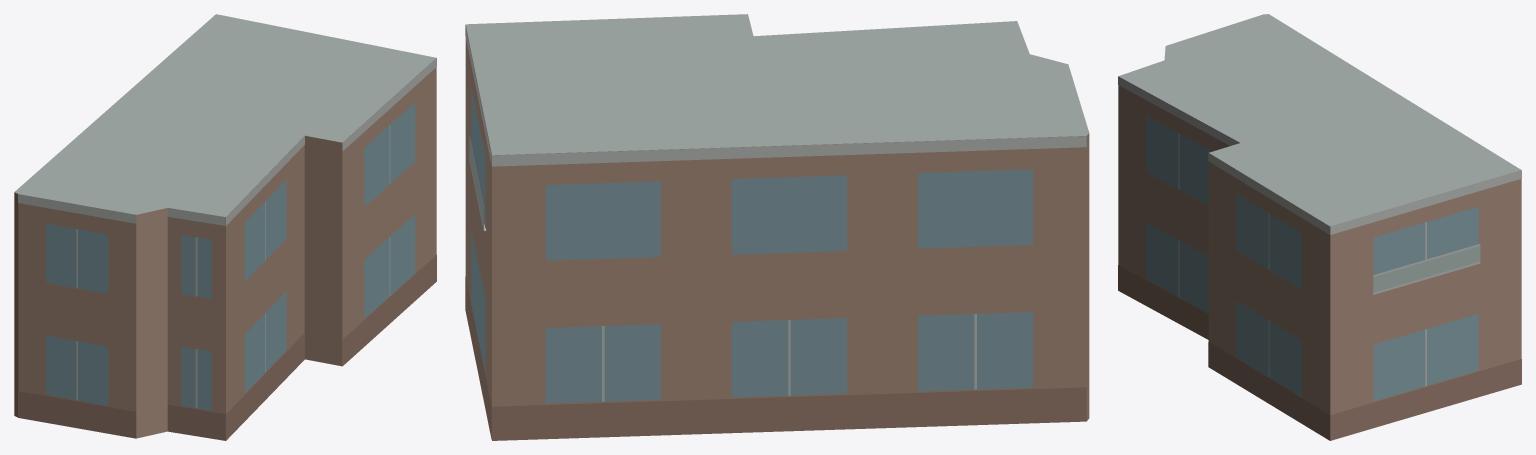
File: survey-upis-32759473.glb
The picture shows the model from 3 angles, left to right: view 1: azimuth 30°, elevation 25°; view 2: azimuth 150°, elevation 25°; view 3: azimuth 270°, elevation 25°; orthographic projection. The views are drawn at different scales.
Parts seen in each view (by area): view 1: survey-upis-32759473.tmp; view 2: survey-upis-32759473.tmp; view 3: survey-upis-32759473.tmp.
Part boxes in pixels (box(x1,y1,x2,y2)): survey-upis-32759473.tmp: box(14, 14, 436, 440); survey-upis-32759473.tmp: box(465, 14, 1089, 440); survey-upis-32759473.tmp: box(1118, 14, 1521, 440).
Size of the model in its own units: 12.98 by 6.1 by 10.42.
